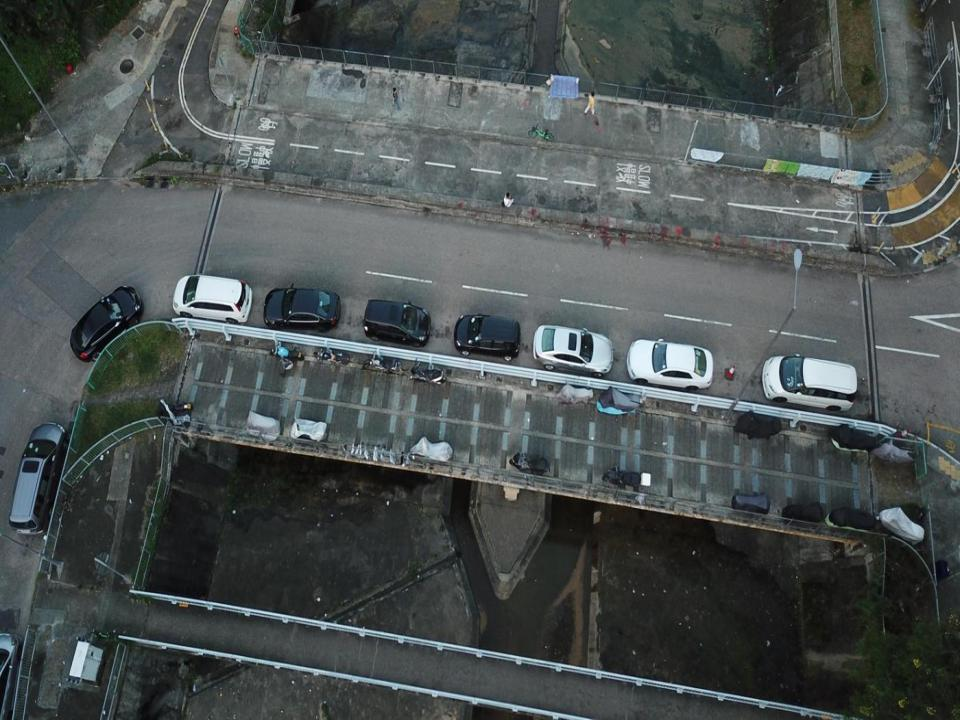car: (9, 422, 67, 535), (70, 285, 144, 363), (762, 354, 856, 411), (627, 339, 713, 390), (533, 324, 613, 378), (172, 274, 252, 327), (264, 283, 340, 334), (454, 312, 520, 361), (364, 300, 431, 347), (0, 632, 24, 718)
